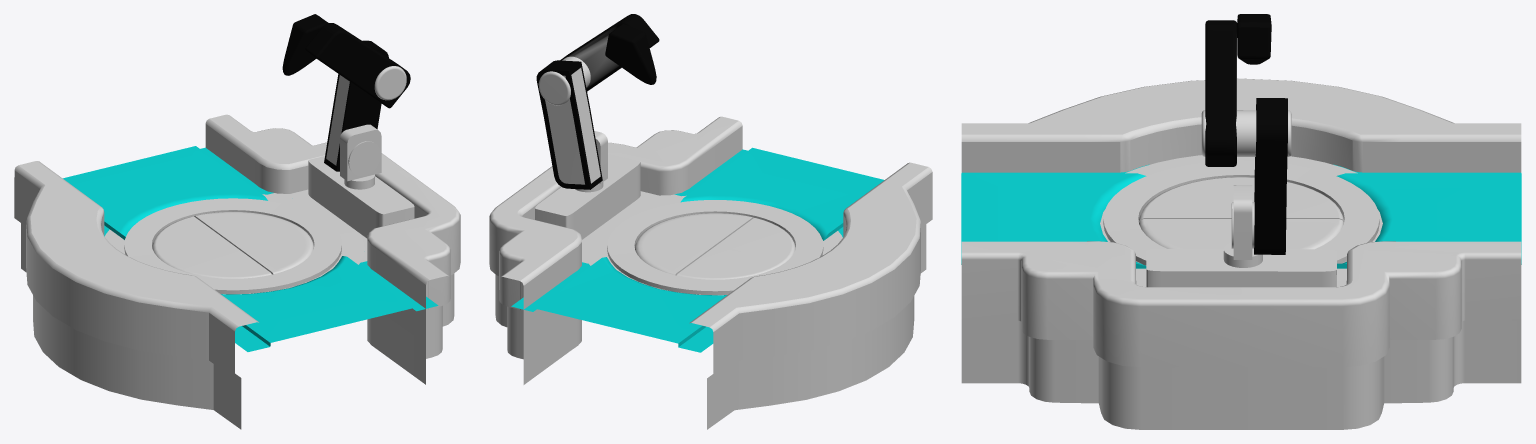
File: CutterHalfInternalVariant.gltf
The picture shows the model from 3 angles, left to right: view 1: azimuth 30°, elevation 25°; view 2: azimuth 150°, elevation 25°; view 3: azimuth 270°, elevation 25°; orthographic projection. The views are drawn at different scales.
Parts seen in each view (by area): view 1: HalfCutter_Default_Main_LOD0, HalfCutter_Default_PlattformMain_LOD0, HalfCutter_Default_Plattform_LOD0, HalfCutter_Robot_Joint2_LOD0, HalfCutter_Robot_Joint1_LOD0, HalfCutter_Robot_Joint3_LOD0; view 2: HalfCutter_Default_Main_LOD0, HalfCutter_Robot_Joint1_LOD0, HalfCutter_Default_PlattformMain_LOD0, HalfCutter_Default_Plattform_LOD0, HalfCutter_Robot_Joint2_LOD0, HalfCutter_Robot_Joint3_LOD0; view 3: HalfCutter_Default_Main_LOD0, HalfCutter_Robot_Joint2_LOD0, HalfCutter_Robot_Joint1_LOD0, HalfCutter_Default_PlattformMain_LOD0, HalfCutter_Default_Plattform_LOD0, HalfCutter_Robot_Joint3_LOD0.
Boxes of the visible parts, x1,y1,x2,y2 form: HalfCutter_Default_Main_LOD0: [14, 114, 460, 429]; HalfCutter_Default_PlattformMain_LOD0: [152, 216, 271, 278]; HalfCutter_Default_Plattform_LOD0: [194, 212, 313, 274]; HalfCutter_Robot_Joint2_LOD0: [305, 23, 410, 108]; HalfCutter_Robot_Joint1_LOD0: [324, 40, 388, 171]; HalfCutter_Robot_Joint3_LOD0: [282, 14, 328, 75]; HalfCutter_Default_Main_LOD0: [489, 116, 932, 429]; HalfCutter_Robot_Joint1_LOD0: [536, 60, 602, 189]; HalfCutter_Default_PlattformMain_LOD0: [677, 218, 795, 279]; HalfCutter_Default_Plattform_LOD0: [635, 213, 753, 275]; HalfCutter_Robot_Joint2_LOD0: [538, 14, 659, 105]; HalfCutter_Robot_Joint3_LOD0: [605, 24, 656, 84]; HalfCutter_Default_Main_LOD0: [961, 78, 1521, 429]; HalfCutter_Robot_Joint2_LOD0: [1201, 20, 1291, 166]; HalfCutter_Robot_Joint1_LOD0: [1254, 98, 1287, 254]; HalfCutter_Default_PlattformMain_LOD0: [1138, 177, 1344, 222]; HalfCutter_Default_Plattform_LOD0: [1139, 219, 1343, 249]; HalfCutter_Robot_Joint3_LOD0: [1237, 14, 1271, 64].
Size of the model in its own units: 0.9511 by 0.7021 by 1.
